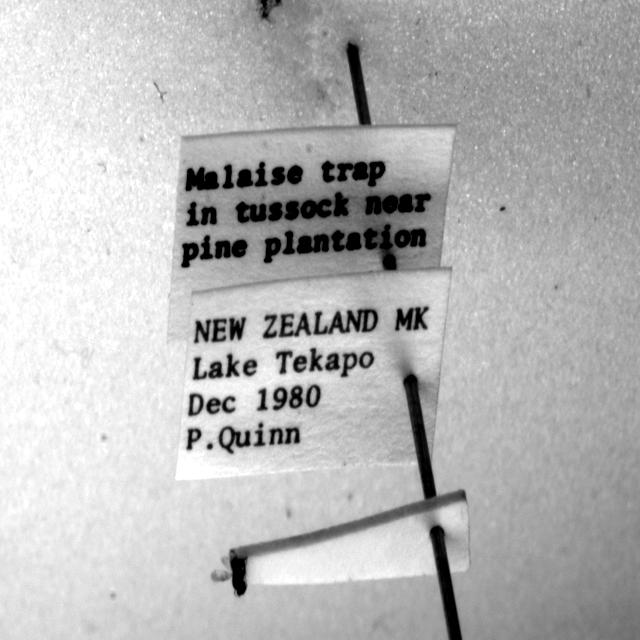typed_label: (169, 126, 455, 343), (176, 268, 451, 478)
